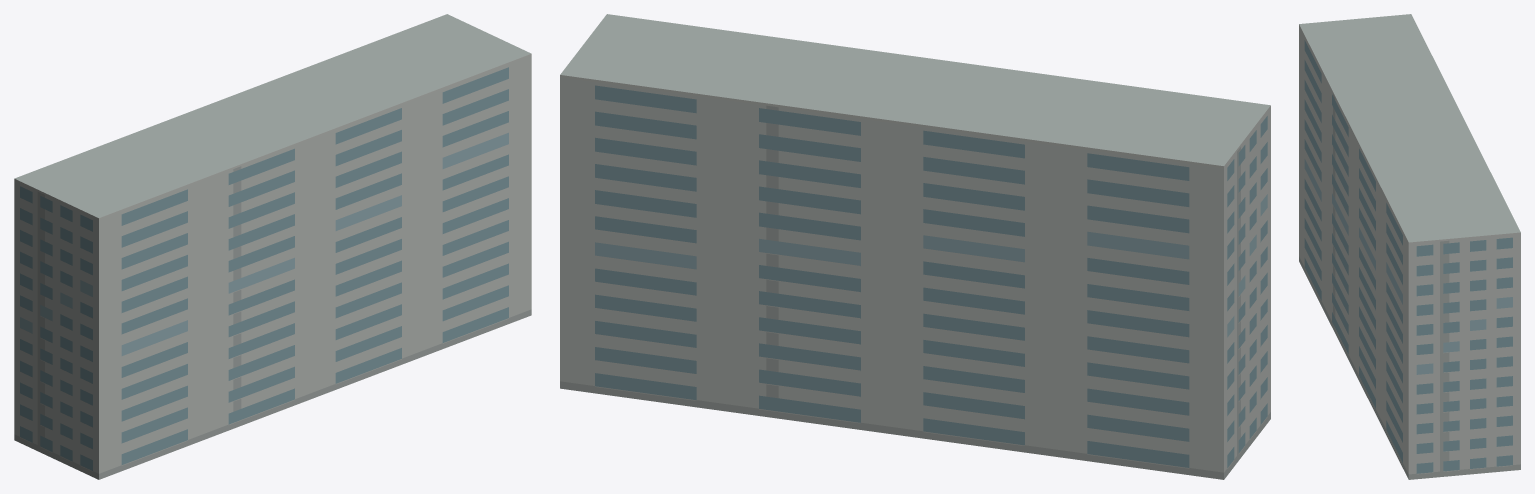
The model's file is residential-3df65262-cc30-4816-b1c6-2b3449b982d5.glb.
3 views of the same model, side by side, from view 1: azimuth 30°, elevation 25°; view 2: azimuth 150°, elevation 25°; view 3: azimuth 270°, elevation 25° (orthographic). The views are drawn at different scales.
Parts seen in each view (by area): view 1: residential-3df65262-cc30-4816-b1c6-2b3449b982d5.tmp; view 2: residential-3df65262-cc30-4816-b1c6-2b3449b982d5.tmp; view 3: residential-3df65262-cc30-4816-b1c6-2b3449b982d5.tmp.
Boxes of the visible parts, x1,y1,x2,y2 form: residential-3df65262-cc30-4816-b1c6-2b3449b982d5.tmp: (14, 14, 531, 479); residential-3df65262-cc30-4816-b1c6-2b3449b982d5.tmp: (560, 14, 1270, 479); residential-3df65262-cc30-4816-b1c6-2b3449b982d5.tmp: (1299, 14, 1520, 479).
Size of the model in its own units: 66.06 by 32 by 27.11.
